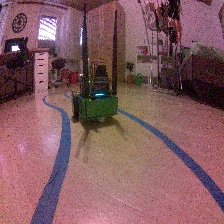rob: (70, 63, 118, 123)
